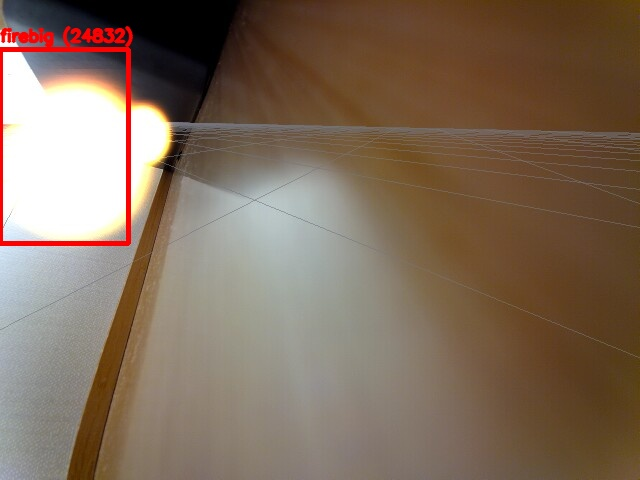firebig: (0, 49, 128, 243)
